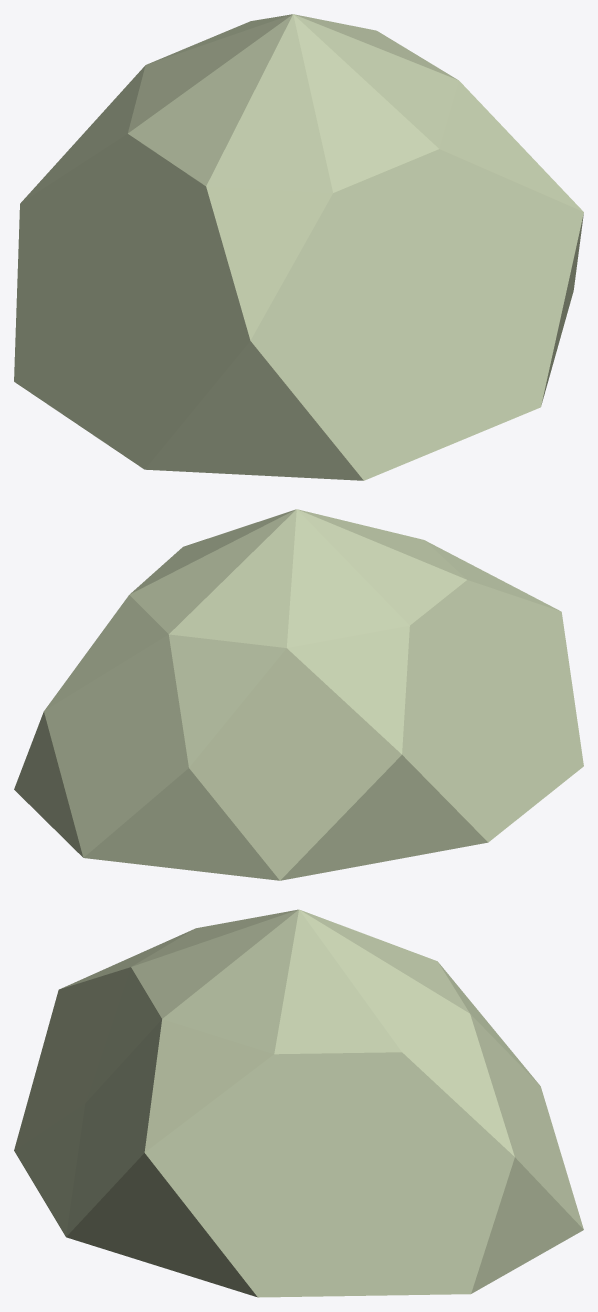
File: Rocks_01.glb
3 renders of one model, top to bottom at view 1: azimuth 30°, elevation 25°; view 2: azimuth 150°, elevation 25°; view 3: azimuth 270°, elevation 25°, orthographic. The views are drawn at different scales.
Parts seen in each view (by area): view 1: Rocks_01; view 2: Rocks_01; view 3: Rocks_01.
Boxes of the visible parts, bbox=[...] form: Rocks_01: bbox=[14, 14, 583, 480]; Rocks_01: bbox=[14, 509, 583, 880]; Rocks_01: bbox=[14, 909, 583, 1297].
Size of the model in its own units: 1.54 by 0.9365 by 1.71.
1 material, 1 textured.
